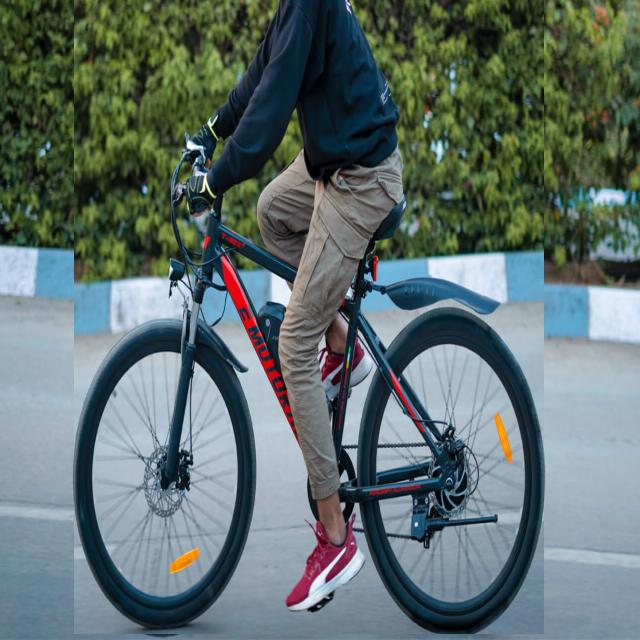bicycle: (74, 0, 544, 634)
